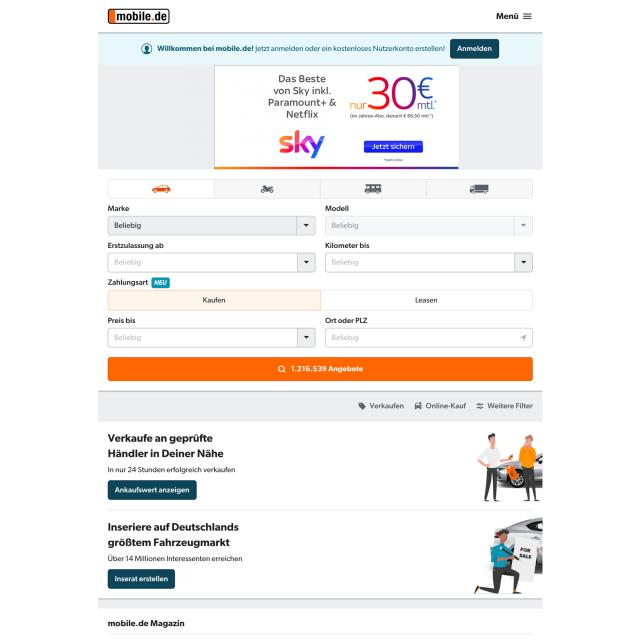CheckBox: (108, 356, 532, 382), (107, 289, 535, 311), (108, 480, 197, 500), (108, 568, 176, 590), (357, 399, 405, 413), (475, 401, 534, 412), (413, 400, 467, 412)
CheckedTextView: (325, 328, 534, 348)
ImageView: (214, 64, 461, 171)
ProgressBar: (98, 31, 542, 66)
RadioButton: (150, 276, 172, 288)
alert: (325, 251, 533, 274), (107, 215, 316, 236), (108, 252, 316, 273), (325, 215, 533, 236), (107, 327, 316, 347)
bag: (97, 0, 542, 33)
data feed: (289, 365, 367, 373), (107, 241, 164, 251), (324, 240, 370, 250), (324, 316, 369, 326), (107, 278, 149, 286), (107, 316, 137, 325), (324, 203, 350, 213), (107, 204, 131, 212)
date picker: (105, 7, 172, 25)
decoration: (494, 8, 534, 22)
icon: (107, 178, 533, 200)
